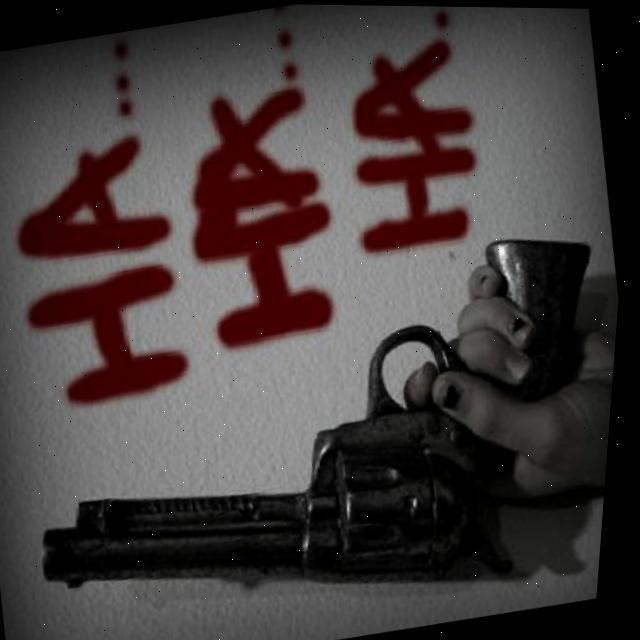gun: (0, 217, 628, 640)
